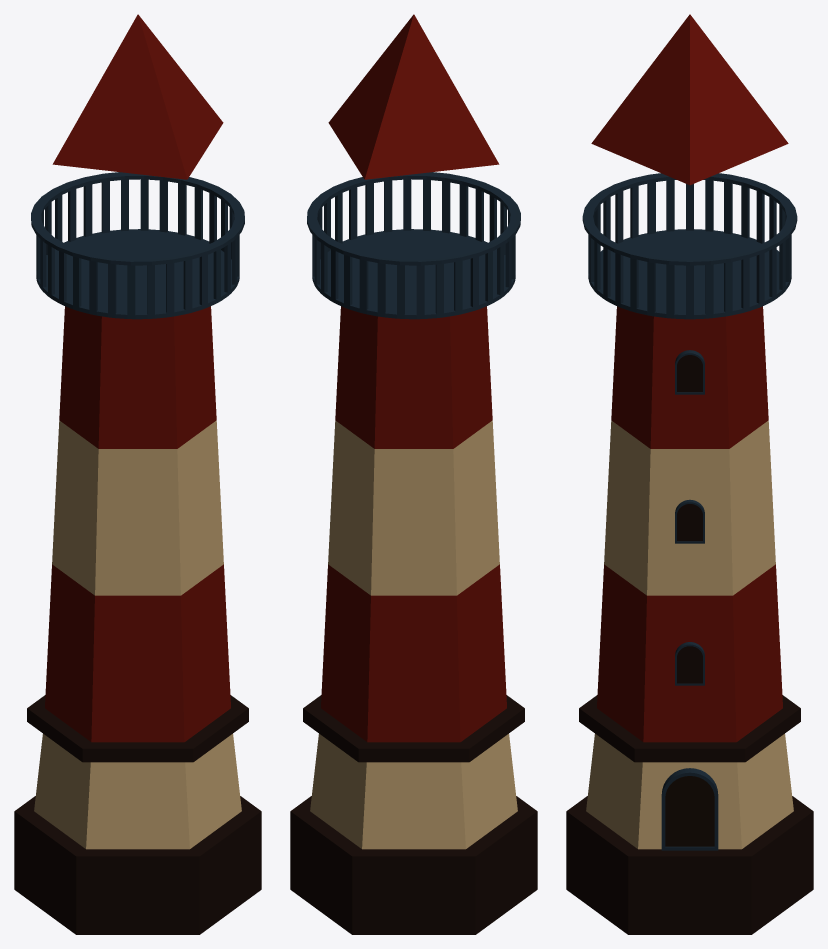
The model's file is light_house_p1.obj.
3 renders of one model, left to right at view 1: azimuth 30°, elevation 25°; view 2: azimuth 150°, elevation 25°; view 3: azimuth 270°, elevation 25°, orthographic.
Parts seen in each view (by area): view 1: Cylinder, Cube.001, Circle.001, Circle, Circle.002; view 2: Cylinder, Cube.001, Circle.001, Circle, Circle.002; view 3: Cylinder, Cube.001, Circle.001, Circle, Circle.003, Circle.002, Circle.006, Circle.005, Circle.004.
Boxes of the visible parts, x1,y1,x2,y2 form: Cylinder: (14,306,261,934); Cube.001: (52,14,223,179); Circle.001: (36,179,239,314); Circle: (36,229,239,319); Circle.002: (31,172,244,265); Cylinder: (290,306,537,934); Cube.001: (328,14,499,179); Circle.001: (312,179,515,314); Circle: (312,229,515,319); Circle.002: (307,172,520,265); Cylinder: (566,306,813,934); Cube.001: (591,14,788,185); Circle.001: (588,180,791,314); Circle: (588,229,791,319); Circle.003: (661,768,718,850); Circle.002: (582,173,797,265); Circle.006: (675,350,704,394); Circle.005: (675,499,704,543); Circle.004: (675,642,704,685).
Size of the model in its own units: 2.1 by 9.46 by 2.42.
